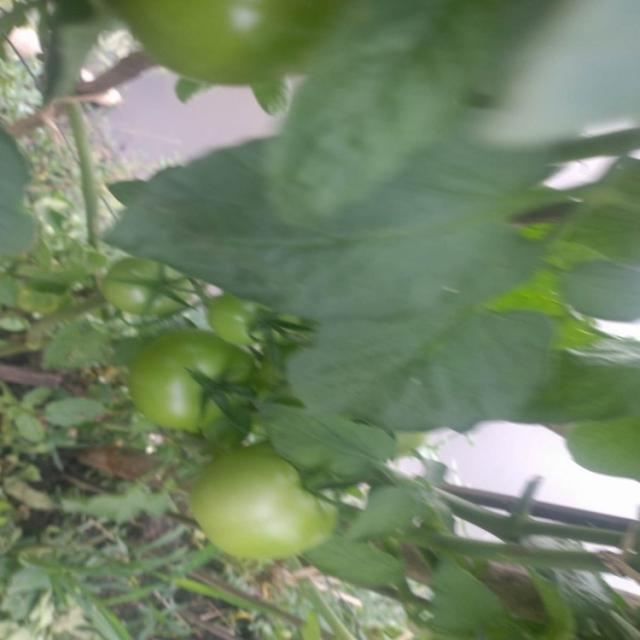tomato: (107, 1, 329, 103), (184, 435, 349, 564), (126, 316, 269, 447), (83, 251, 218, 324), (208, 289, 292, 356)
